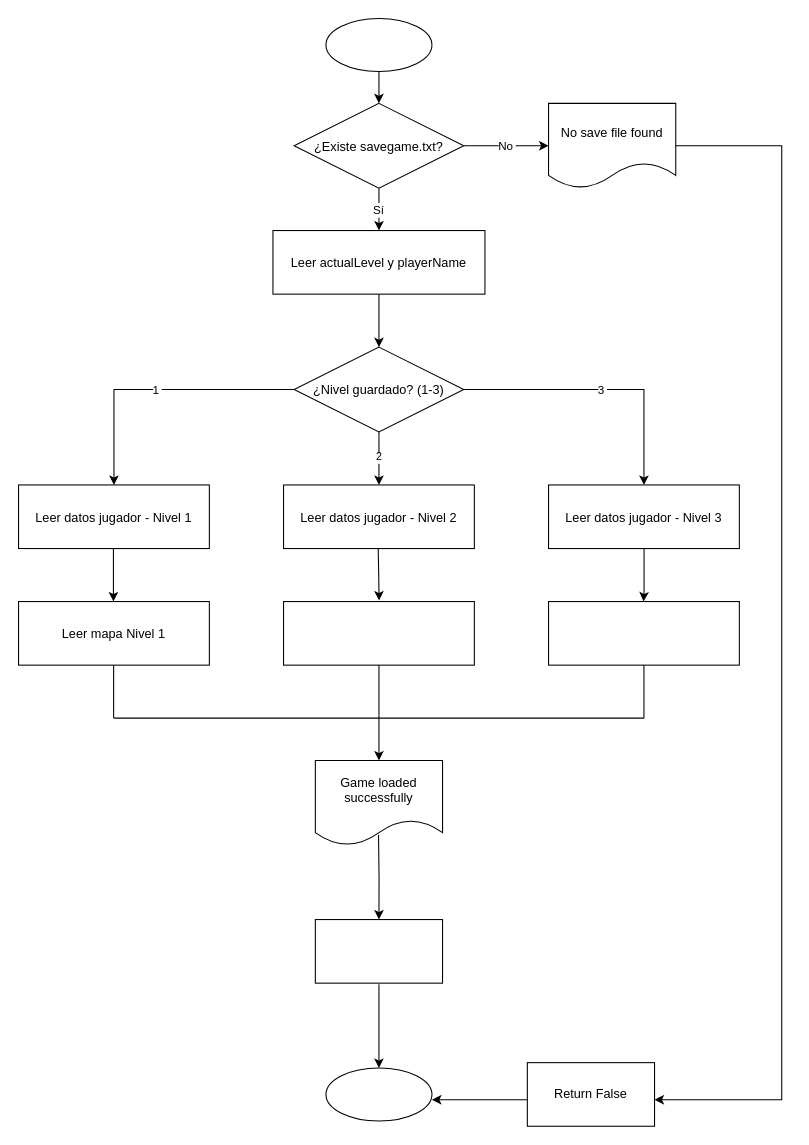
This 809x1145 diagram has some shape labels left out. The box of each missing label's shape, as (x1, y1, x2, y2) in pixels:
Fin: (325, 1067, 432, 1121)
Inicio: (325, 17, 432, 72)
Leer mapa Nivel 2: (282, 600, 474, 665)
Leer mapa Nivel 3: (547, 600, 739, 665)
Return True: (314, 918, 443, 983)
